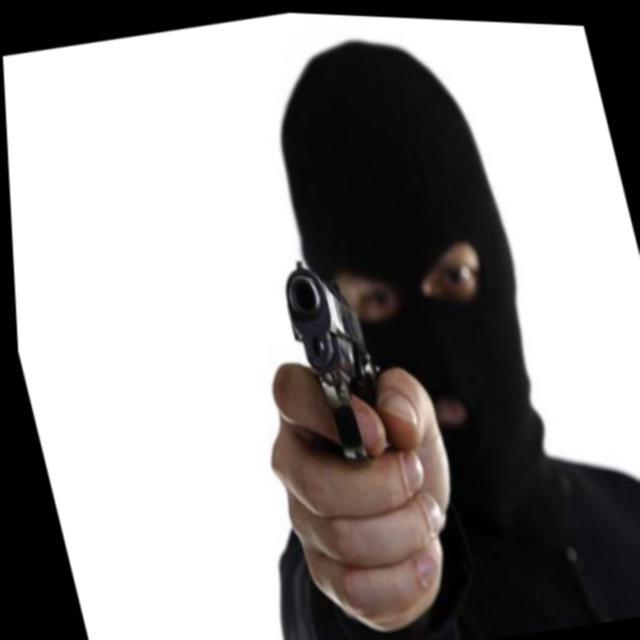weapon: (272, 245, 396, 468)
